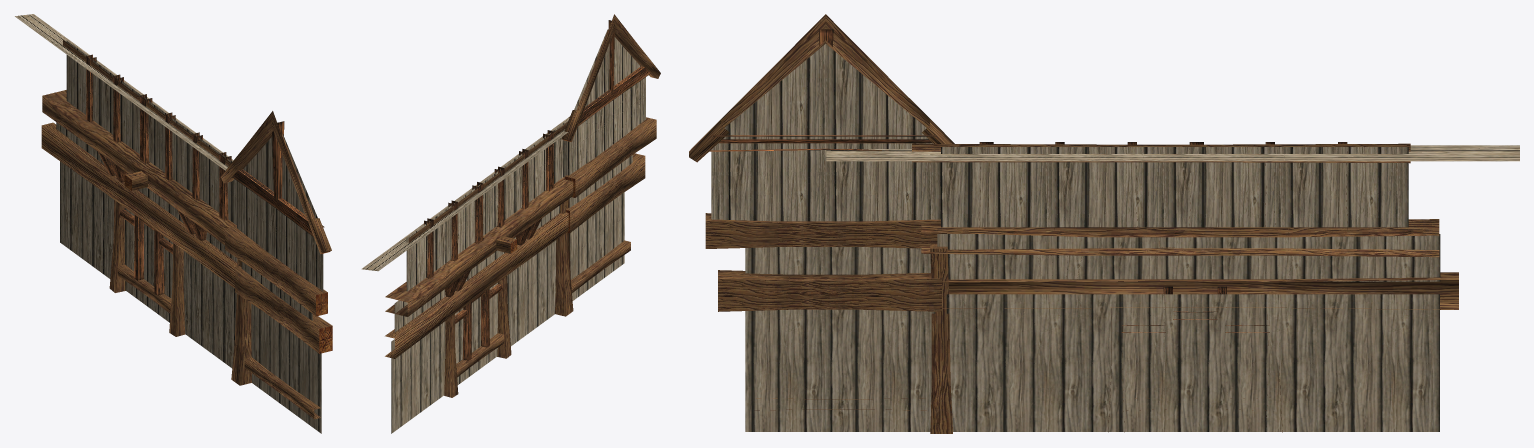
Rendered from LAKETOWN_EXTERIOR_PS_LT_ENTRANCEWALL978__GX.fbx.
The picture shows the model from 3 angles, left to right: view 1: azimuth 30°, elevation 25°; view 2: azimuth 150°, elevation 25°; view 3: azimuth 270°, elevation 25°; orthographic projection. The views are drawn at different scales.
Parts seen in each view (by area): view 1: LAKETOWN_EXTERIOR_PS_LT_ENTRANCEWALL978__GX; view 2: LAKETOWN_EXTERIOR_PS_LT_ENTRANCEWALL978__GX; view 3: LAKETOWN_EXTERIOR_PS_LT_ENTRANCEWALL978__GX.
Part boxes in pixels (bbox=[...]): LAKETOWN_EXTERIOR_PS_LT_ENTRANCEWALL978__GX: bbox=[15, 14, 332, 433]; LAKETOWN_EXTERIOR_PS_LT_ENTRANCEWALL978__GX: bbox=[361, 14, 660, 433]; LAKETOWN_EXTERIOR_PS_LT_ENTRANCEWALL978__GX: bbox=[689, 14, 1519, 433].
Size of the model in its own units: 10699 by 74672 by 138219.
Materials: 7 (7 with a texture image).
